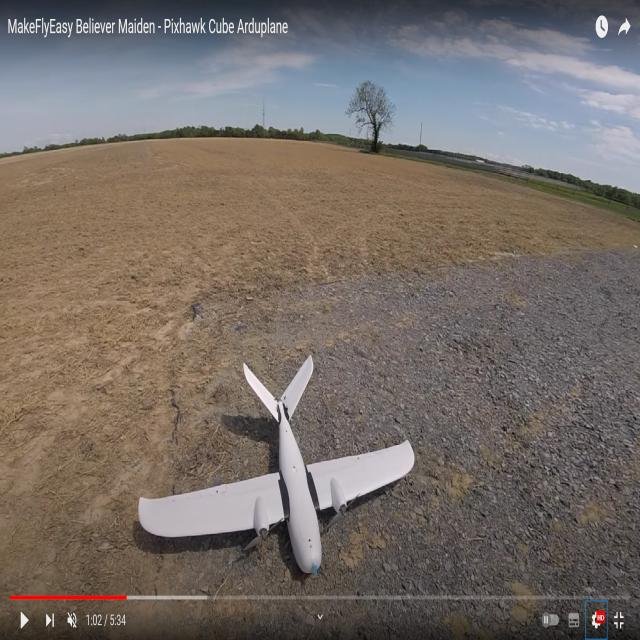iha: (134, 355, 417, 572)
